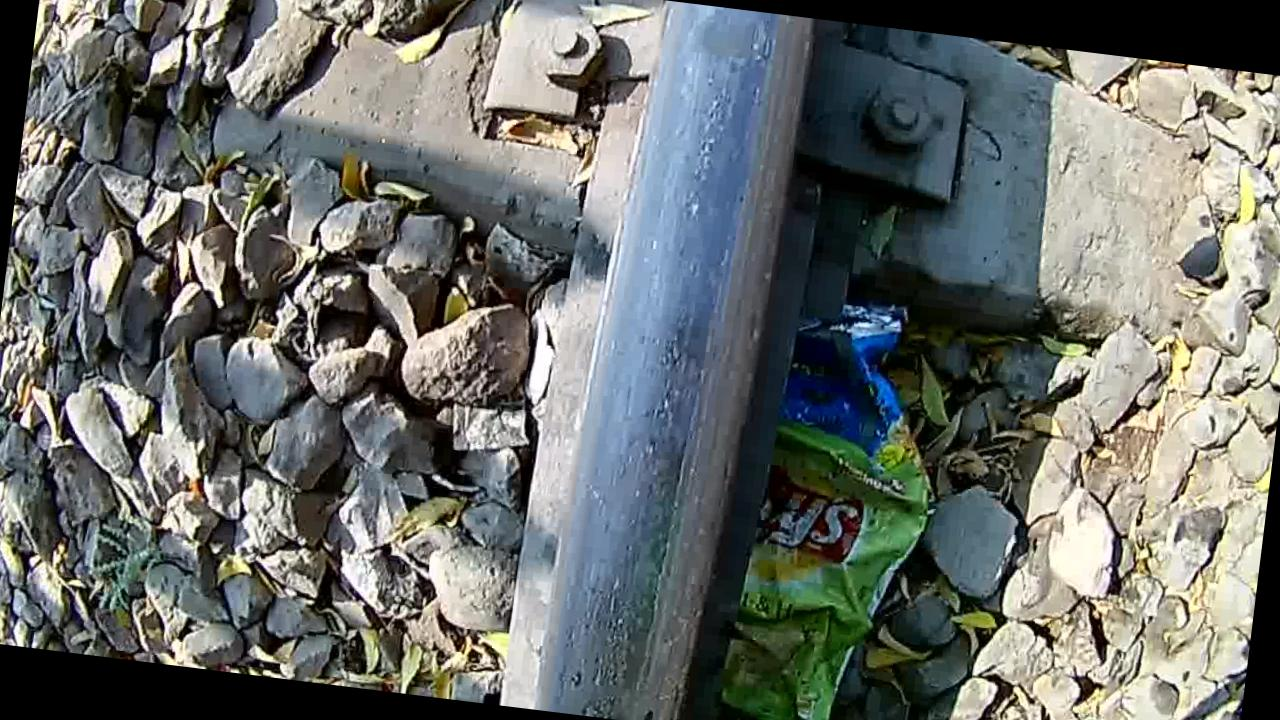bolt_missing: (663, 1, 779, 96)
